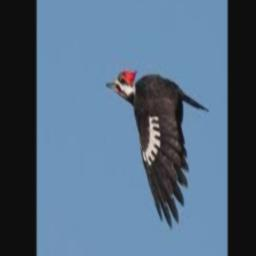Woodpecker: (107, 69, 209, 227)
